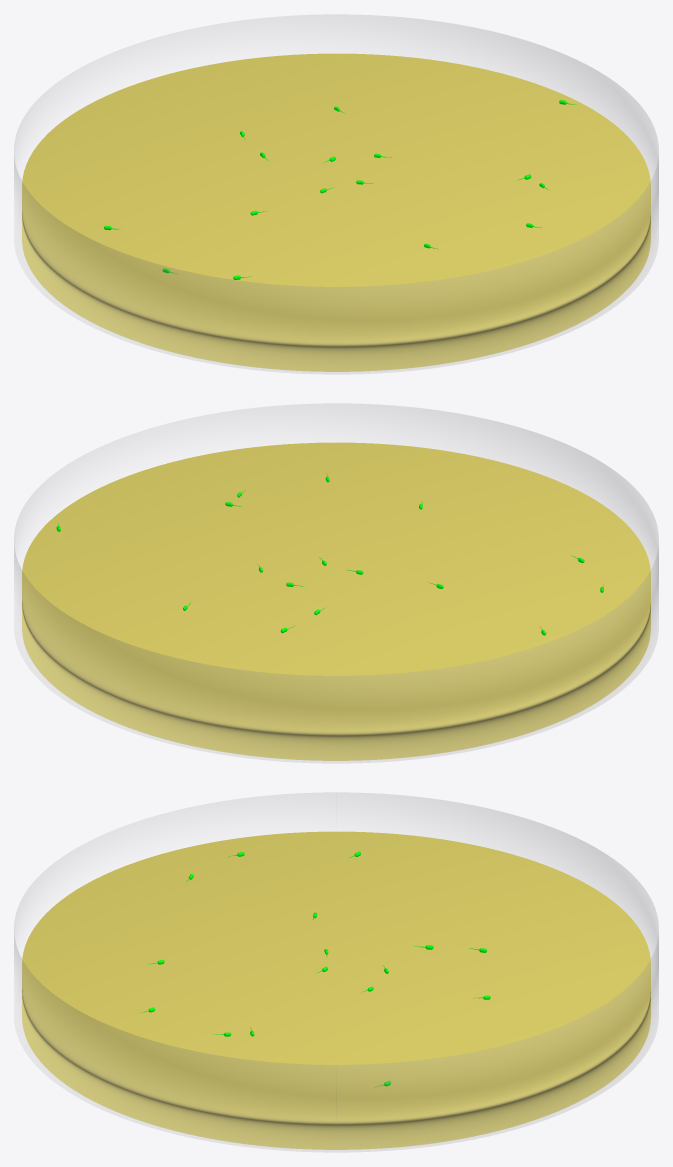
3 renders of one model, top to bottom at view 1: azimuth 30°, elevation 25°; view 2: azimuth 150°, elevation 25°; view 3: azimuth 270°, elevation 25°, orthographic.
Visible parts, largest first — view 1: Agar, Base Petri; view 2: Agar, Base Petri; view 3: Agar, Base Petri.
Boxes of the visible parts, <box> form: Agar: <box>22,53,650,371</box>; Base Petri: <box>14,14,658,374</box>; Agar: <box>22,442,650,760</box>; Base Petri: <box>14,403,658,763</box>; Agar: <box>22,831,650,1149</box>; Base Petri: <box>14,792,658,1152</box>.
Bounding box in the file's own units: 2 × 0.3025 × 2.
